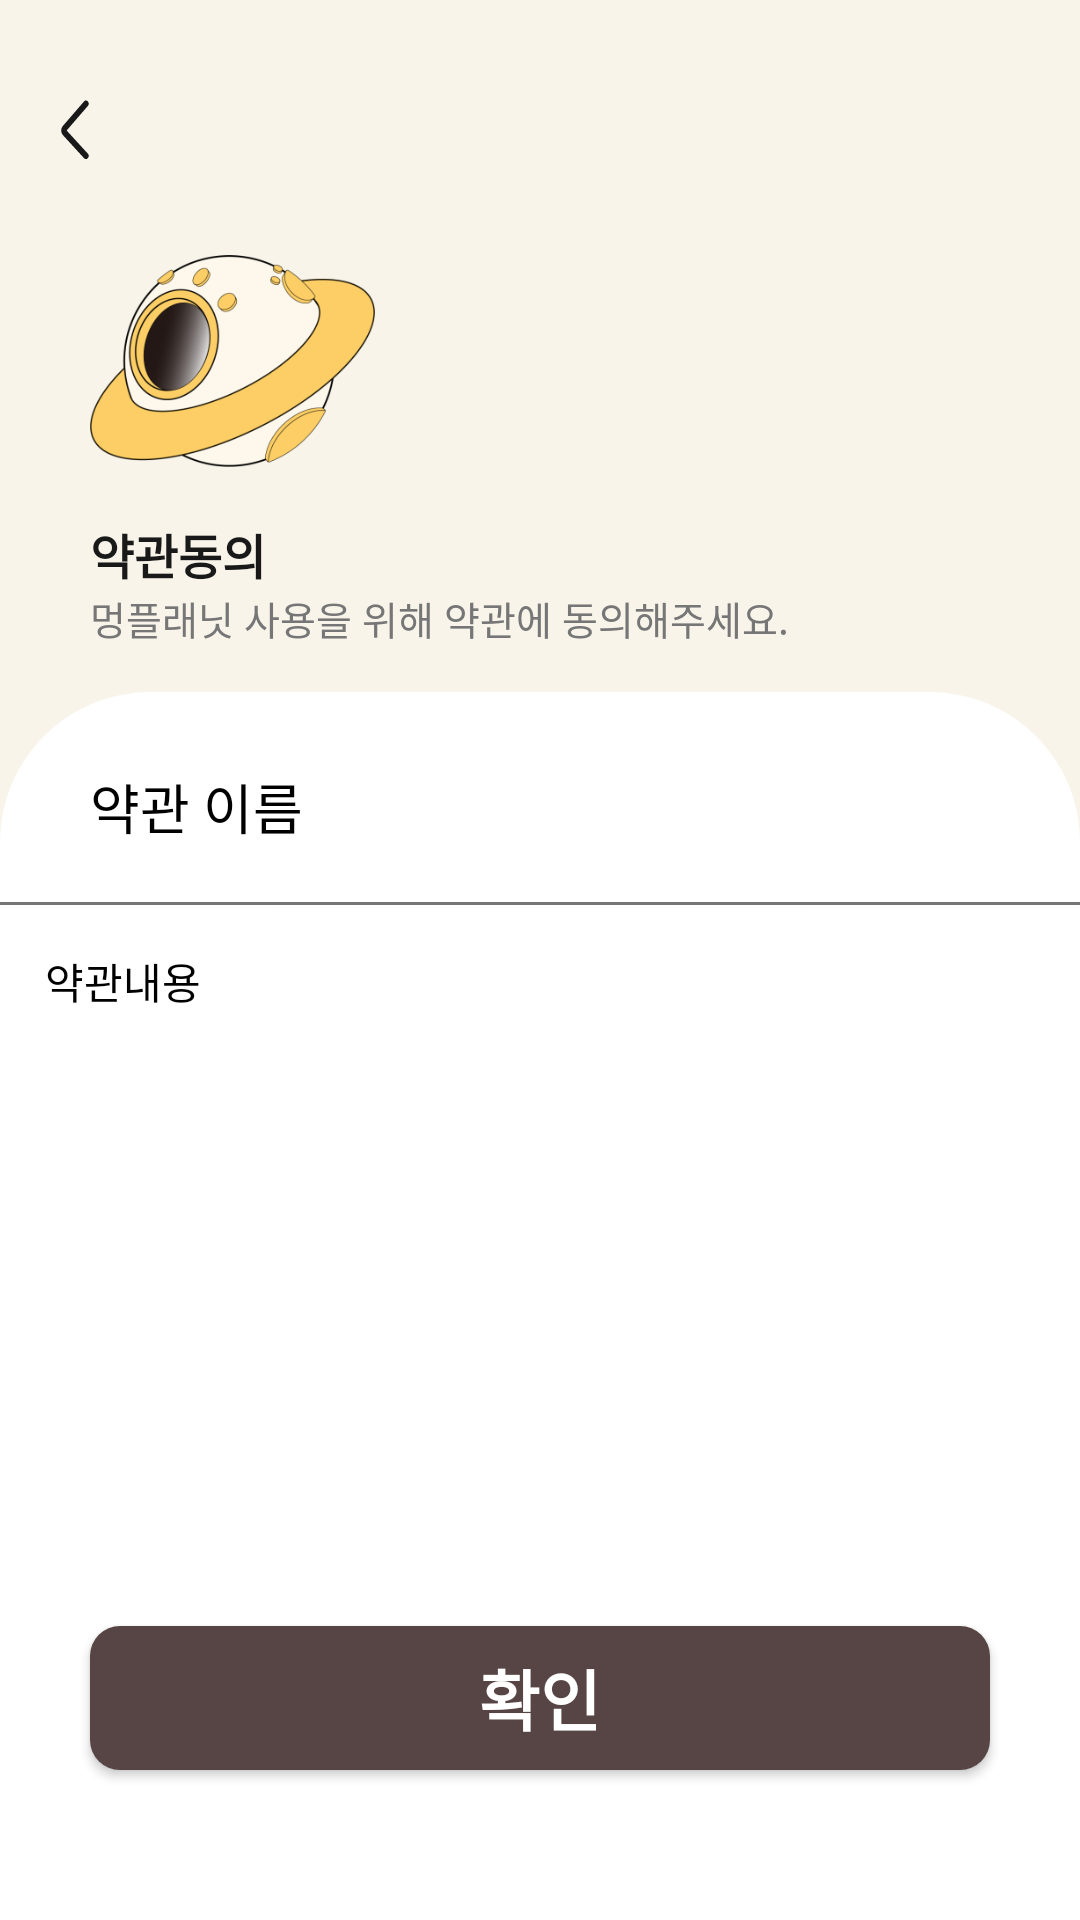

Point at icon controls on the screen. Image size 1080×1920, points as (x=x, y=y).
back calendar btm: (x=75, y=129)
planet: (x=232, y=361)
